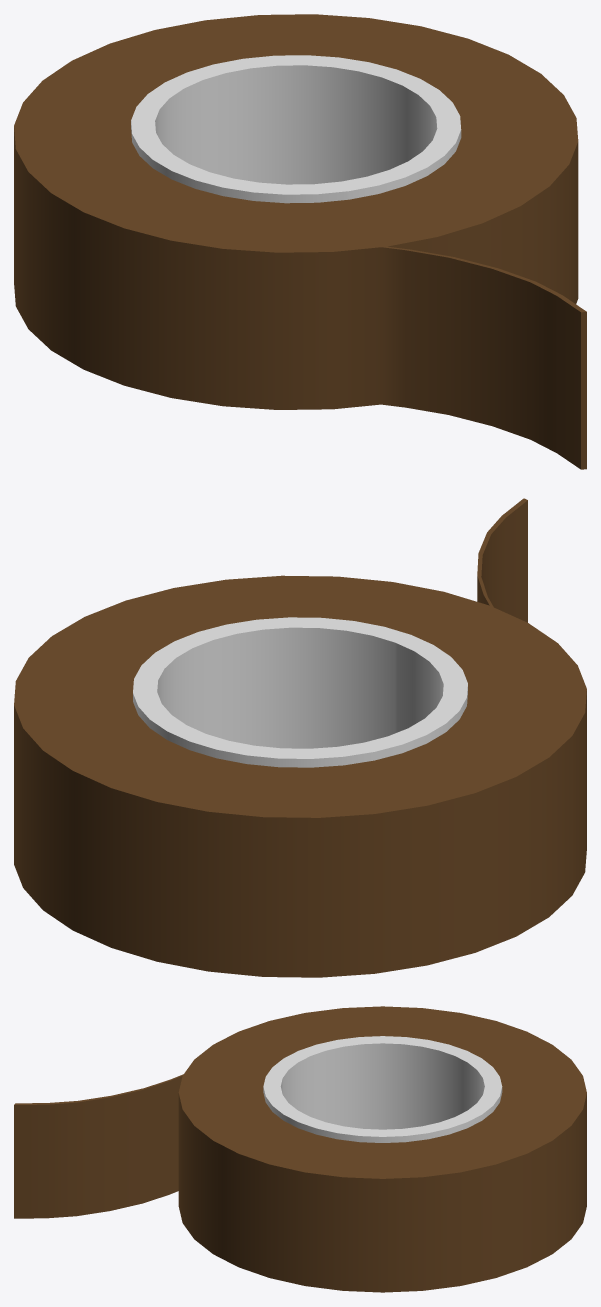
File: geo_scotch.fbx
The picture shows the model from 3 angles, top to bottom: view 1: azimuth 30°, elevation 25°; view 2: azimuth 150°, elevation 25°; view 3: azimuth 270°, elevation 25°; orthographic projection. The views are drawn at different scales.
Parts seen in each view (by area): view 1: Tape; view 2: Tape; view 3: Tape.
Part boxes in pixels (x1=…): Tape: x1=14, y1=14, x2=586, y2=469; Tape: x1=14, y1=498, x2=586, y2=977; Tape: x1=14, y1=1006, x2=586, y2=1292.
Bounding box in the file's own units: 86.42 × 29.05 × 121.
